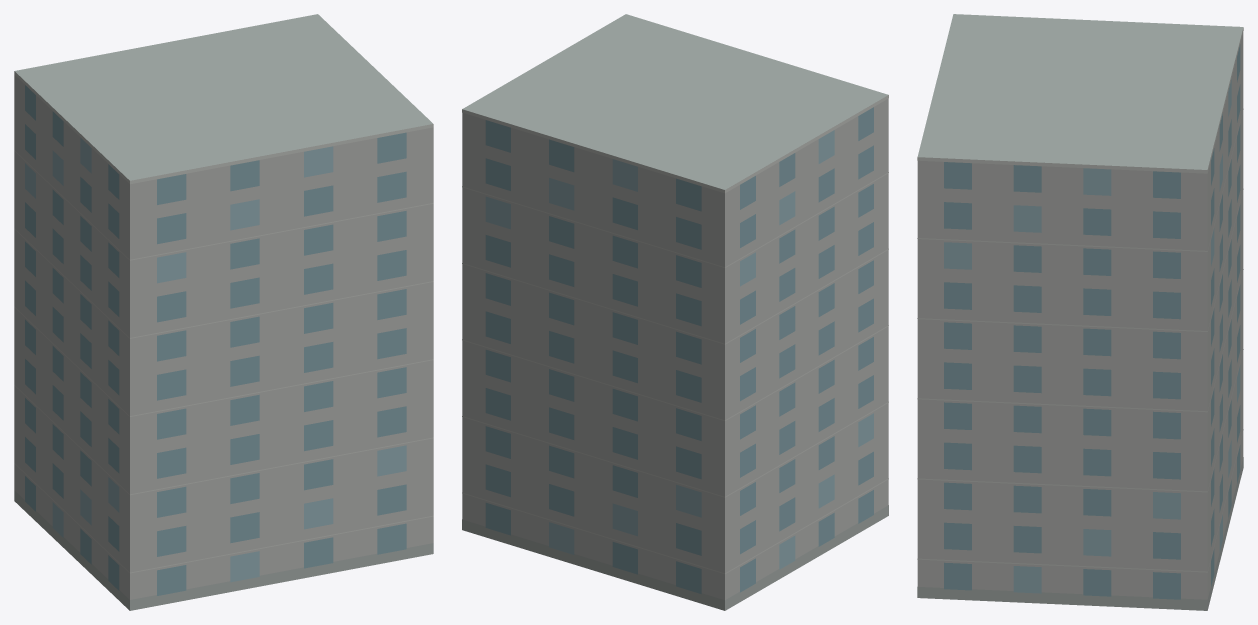
Rendered from residential-e3a8ecbc-bcda-4223-a546-c06ce5fa3654.glb.
3 views of the same model, side by side, from view 1: azimuth 30°, elevation 25°; view 2: azimuth 150°, elevation 25°; view 3: azimuth 270°, elevation 25° (orthographic). The views are drawn at different scales.
Visible parts, largest first — view 1: residential-e3a8ecbc-bcda-4223-a546-c06ce5fa3654.tmp; view 2: residential-e3a8ecbc-bcda-4223-a546-c06ce5fa3654.tmp; view 3: residential-e3a8ecbc-bcda-4223-a546-c06ce5fa3654.tmp.
Part boxes in pixels (bbox=[...]): residential-e3a8ecbc-bcda-4223-a546-c06ce5fa3654.tmp: bbox=[14, 14, 433, 610]; residential-e3a8ecbc-bcda-4223-a546-c06ce5fa3654.tmp: bbox=[462, 14, 888, 610]; residential-e3a8ecbc-bcda-4223-a546-c06ce5fa3654.tmp: bbox=[917, 14, 1243, 610].
Size of the model in its own units: 22.8 by 30 by 20.13.
